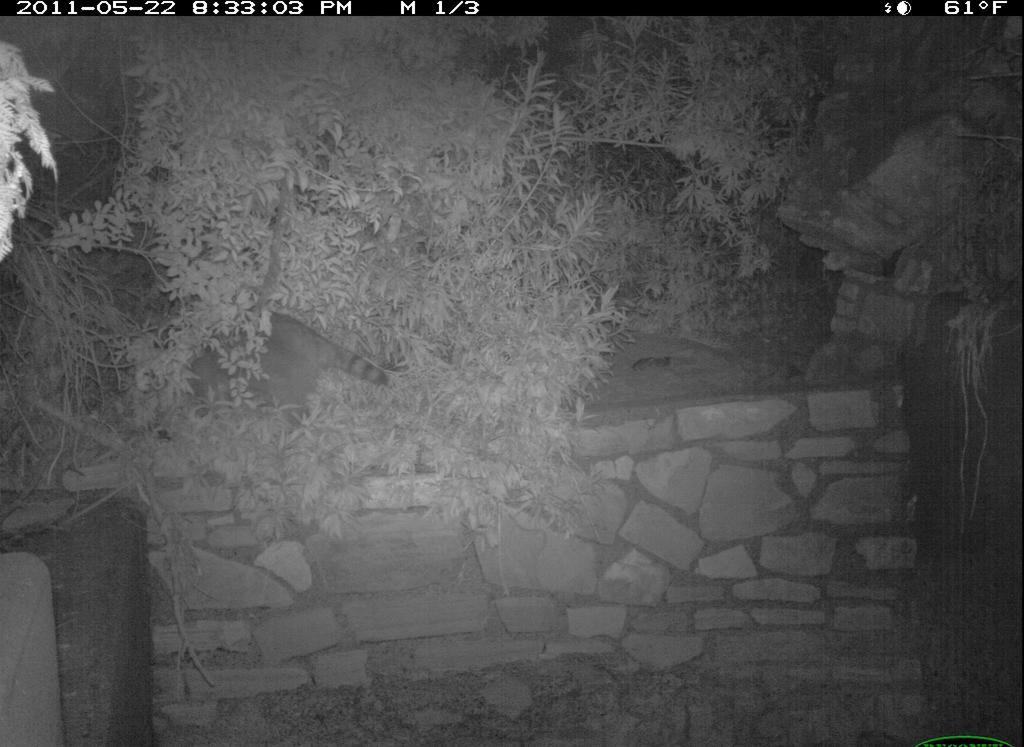raccoon: (132, 309, 391, 428)
